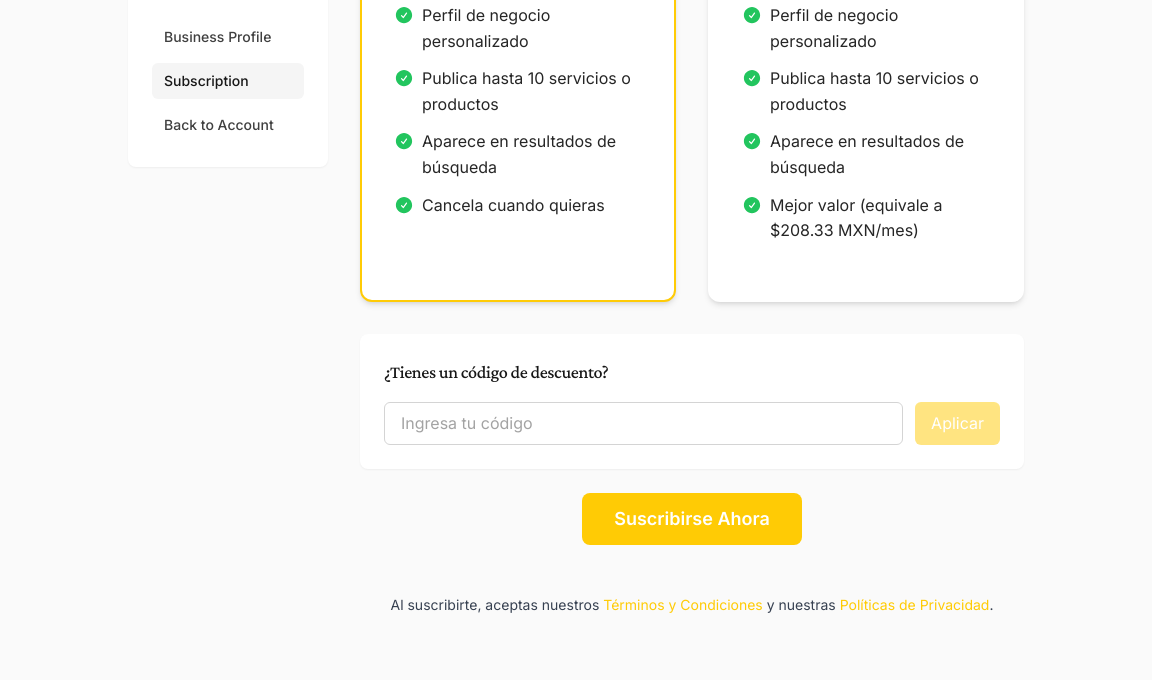
Scenario: Coupon Functionality › allows removing applied coupon
(page scrolled)
Apply coupon
Type "AMIGOSSLPWAY" into the field with placeholder "Ingresa tu código" at (644, 424), box top-left (384, 402), bottom-right (903, 445)
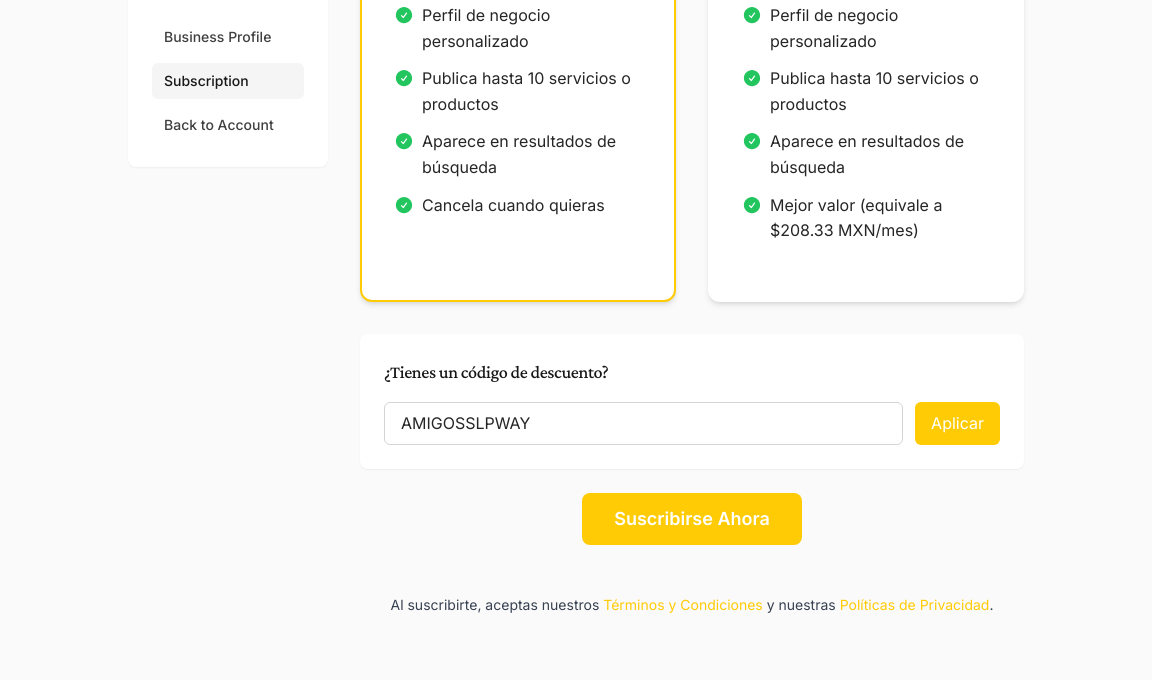
Click the button "Aplicar" at (958, 424), box top-left (915, 402), bottom-right (1000, 445)
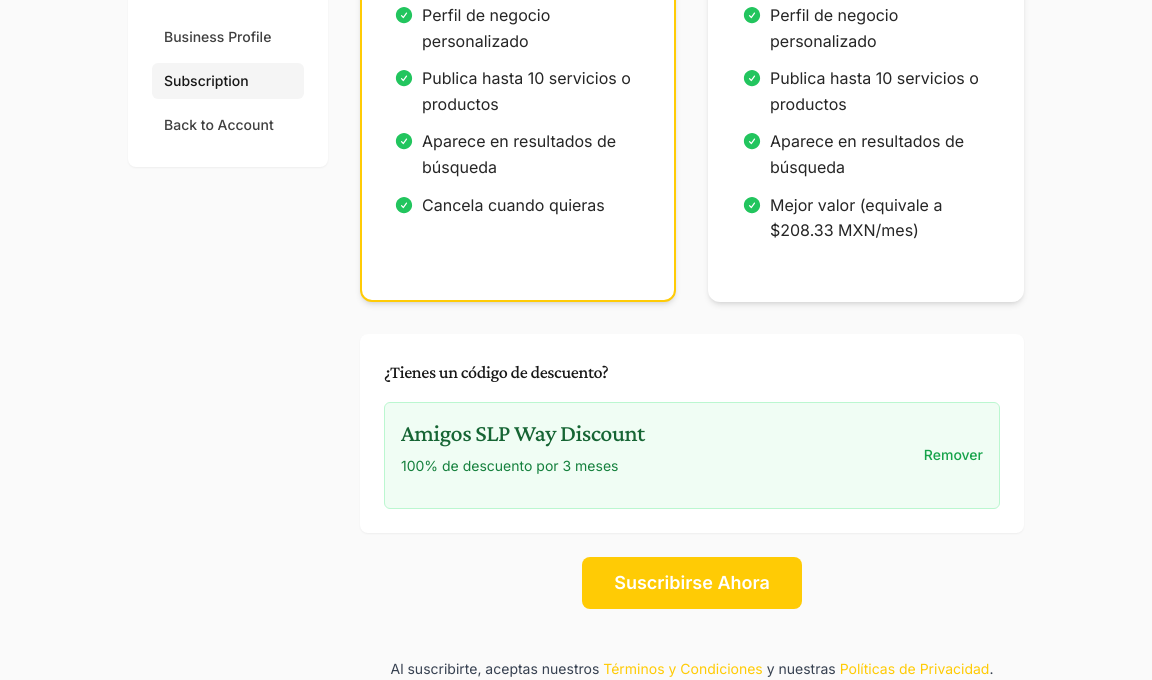
Check: the heading "Amigos SLP Way Discount" is shown, box top-left (401, 419), bottom-right (645, 448)
Remove coupon
Click the button "Remover" at (953, 455), box top-left (924, 445), bottom-right (983, 465)
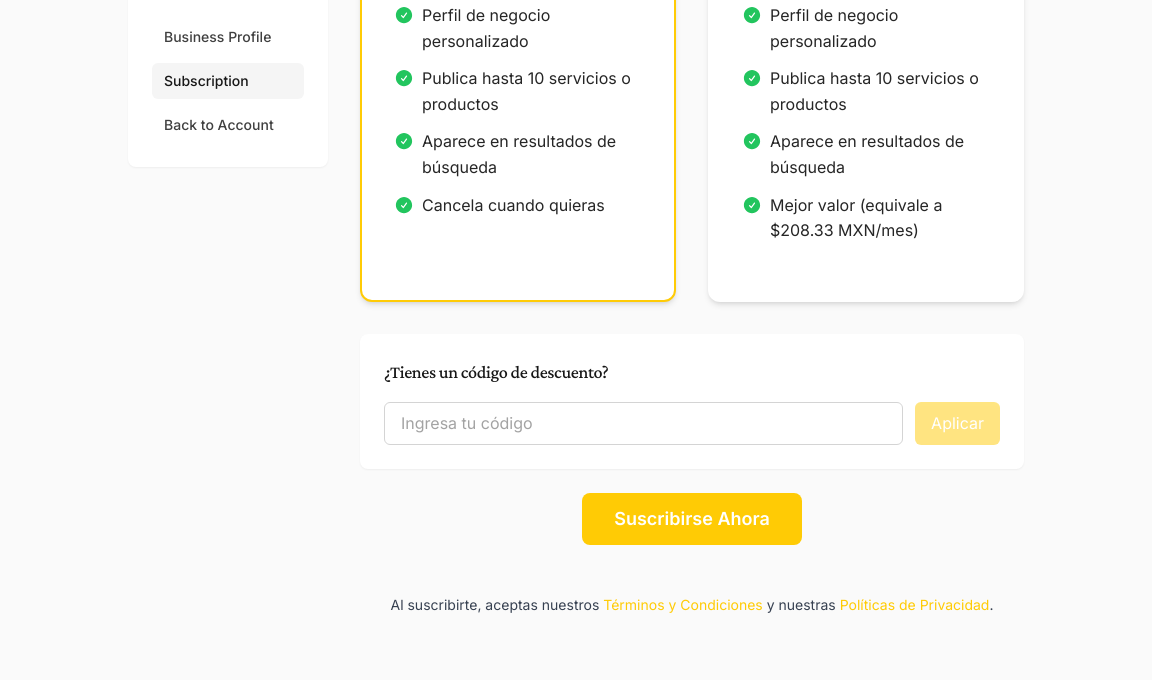
Check: the field with placeholder "Ingresa tu código" is shown, box top-left (384, 402), bottom-right (903, 445)
Check: the heading "Amigos SLP Way Discount" is gone
